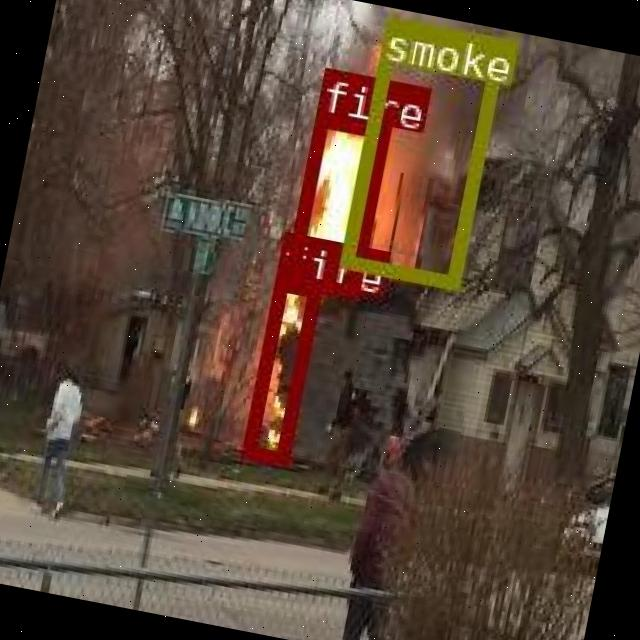fire: (282, 111, 388, 296), (241, 274, 319, 462)
smoke: (337, 15, 505, 286)
